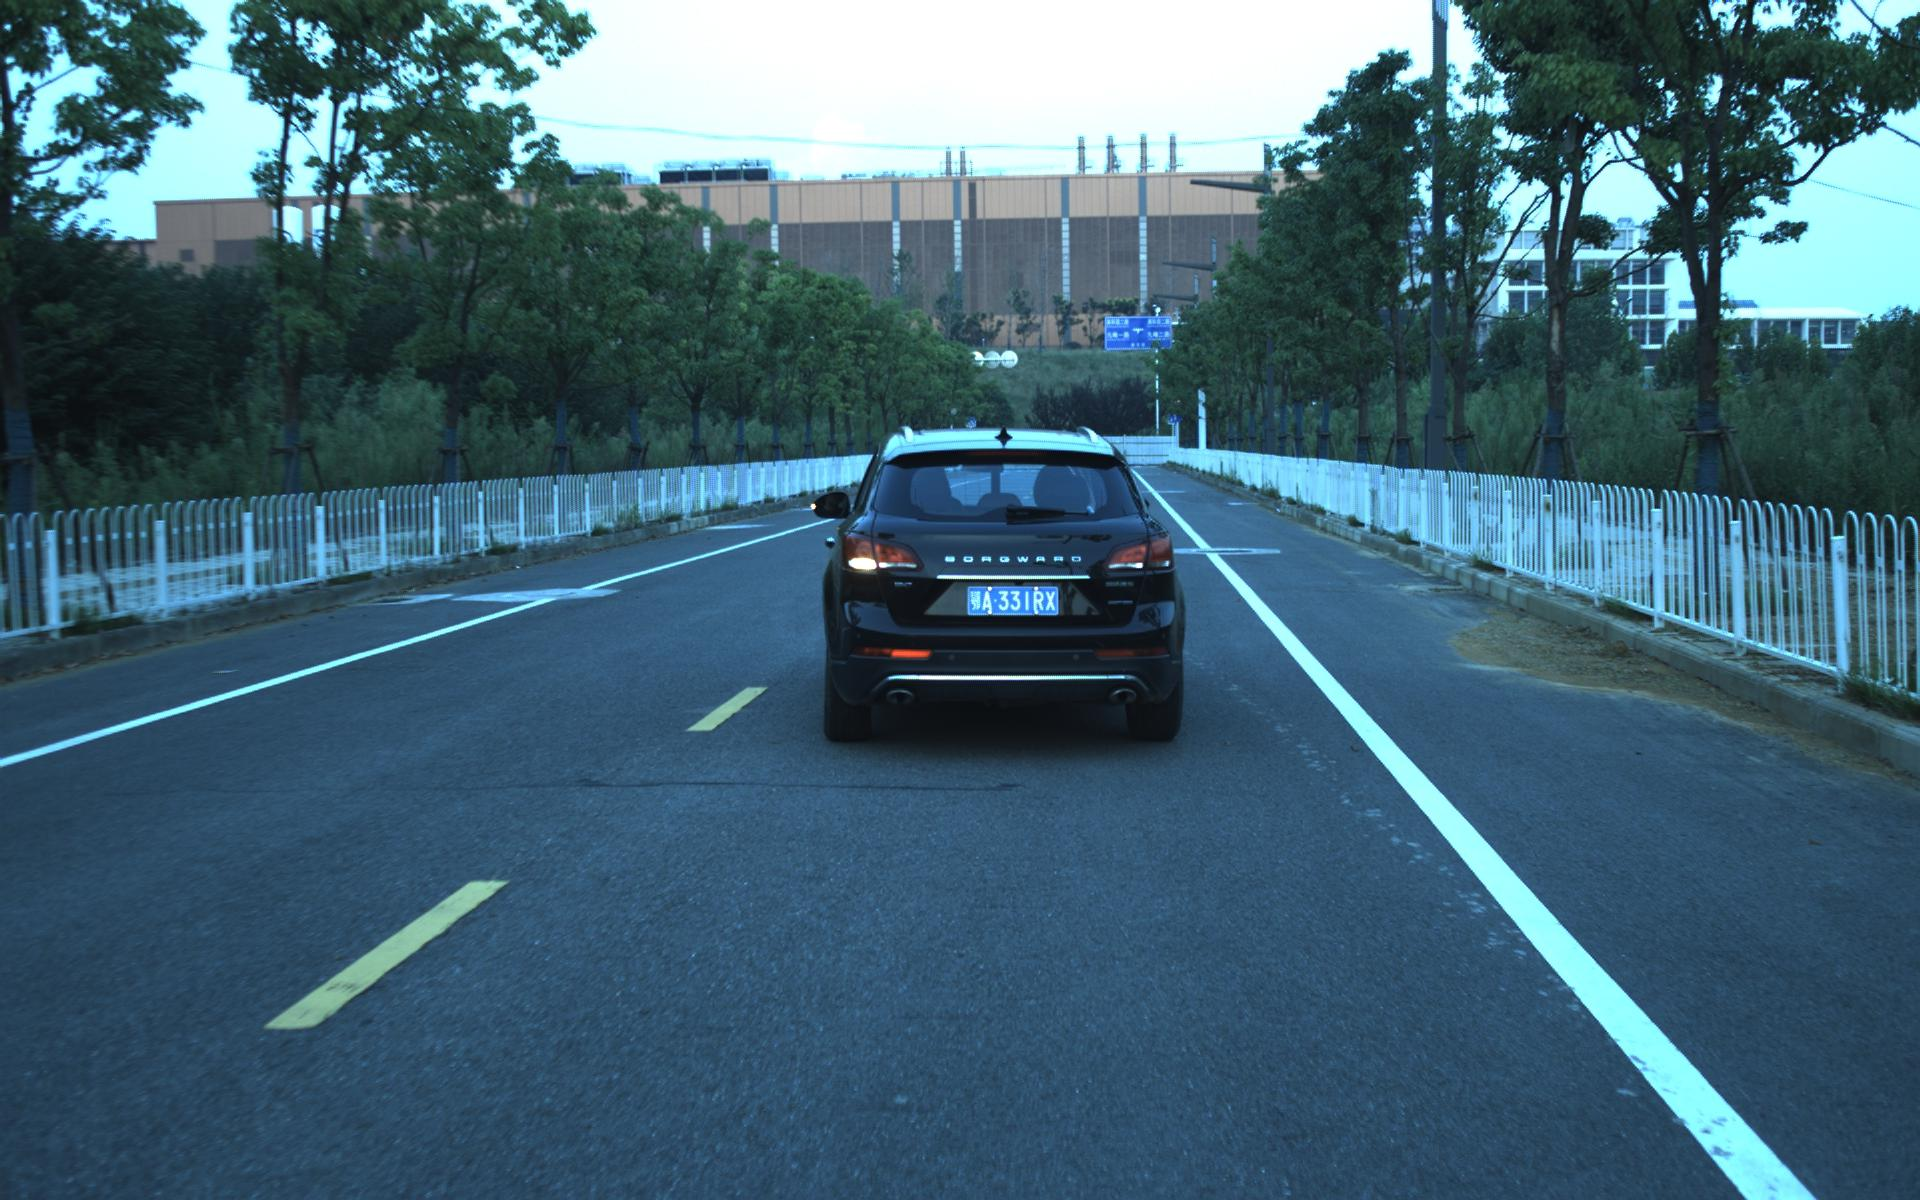Car: (816, 415, 1190, 752)
